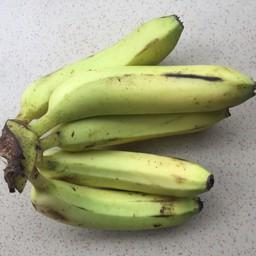Good_banana: (16, 12, 256, 240), (51, 64, 253, 118), (42, 141, 216, 194), (35, 174, 193, 229)
